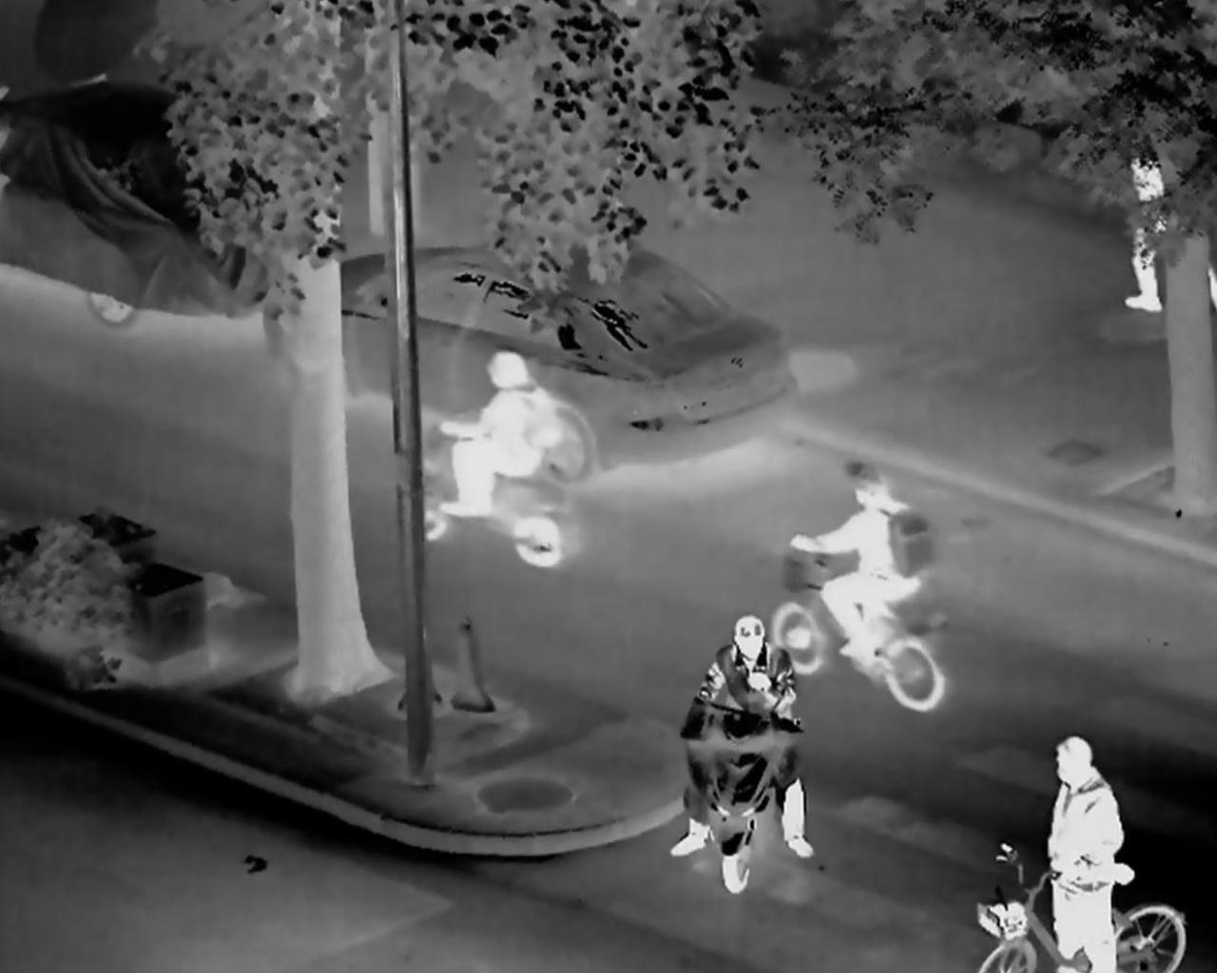person: (660, 598, 822, 906), (1008, 730, 1151, 973), (785, 457, 925, 701), (426, 350, 570, 555), (1095, 122, 1216, 334)
